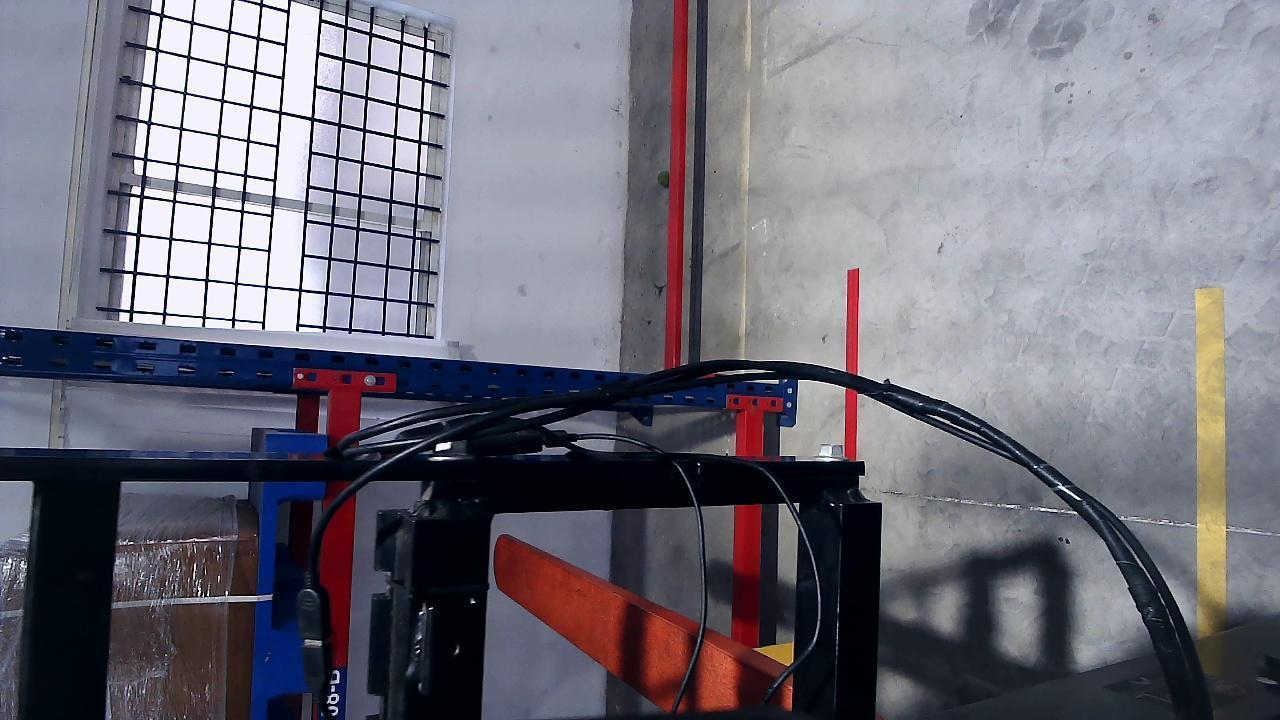red_line: (846, 264, 860, 454)
yellow_line: (1195, 286, 1227, 646)
